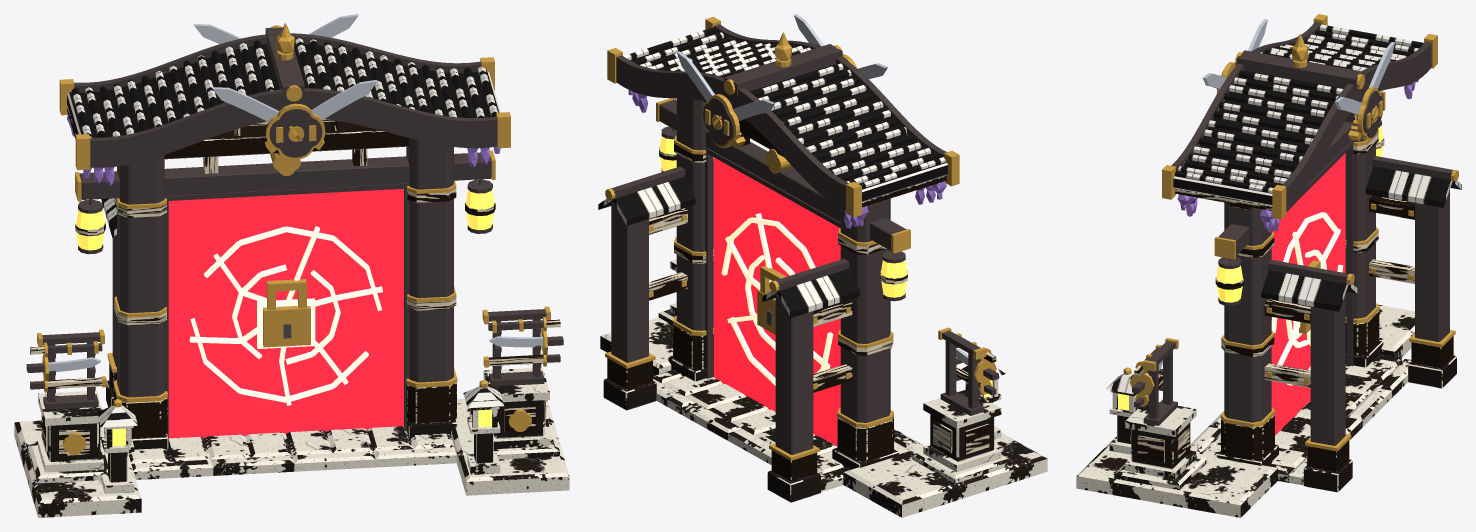
Rendered from ILHA3_08_PURCHASE_GATES_ac1e1a.fbx.
3 views of the same model, side by side, from view 1: azimuth 30°, elevation 25°; view 2: azimuth 150°, elevation 25°; view 3: azimuth 270°, elevation 25° (orthographic). The views are drawn at different scales.
Parts seen in each view (by area): view 1: GATE_DemonSlayer_Frame__P_DS_Black, GATE_DemonSlayer_Barrier__P_DS_Glow, GATE_DemonSlayer_Frame__Roof_Blue, GATE_DemonSlayer_Frame__Stone_Wall_Dark, GATE_DemonSlayer_Frame__Stone_Wall_Light, GATE_DemonSlayer_Frame__Wood_Lacquer_Red, GATE_DemonSlayer_Frame__Metal_Gold, GATE_DemonSlayer_Barrier__Energy_Core_DemonSlayer_Glow, GATE_DemonSlayer_Frame__Metal_GateDS_Blade, GATE_DemonSlayer_Lock__Metal_Gold, GATE_DemonSlayer_Frame__Lantern_Glow, GATE_DemonSlayer_Frame__Stone_Dark (+2 smaller); view 2: GATE_DemonSlayer_Frame__P_DS_Black, GATE_DemonSlayer_Frame__Roof_Blue, GATE_DemonSlayer_Barrier__P_DS_Glow, GATE_DemonSlayer_Frame__Stone_Wall_Dark, GATE_DemonSlayer_Frame__Wood_Lacquer_Red, GATE_DemonSlayer_Frame__Metal_Gold, GATE_DemonSlayer_Frame__Stone_Wall_Light, GATE_DemonSlayer_Barrier__Energy_Core_DemonSlayer_Glow, GATE_DemonSlayer_Frame__Stone_Dark, GATE_DemonSlayer_Frame__Metal_GateDS_Blade, GATE_DemonSlayer_Frame__Lantern_Glow, GATE_DemonSlayer_Frame__Leaf_GateDS_Wisteria (+1 smaller); view 3: GATE_DemonSlayer_Frame__P_DS_Black, GATE_DemonSlayer_Frame__Roof_Blue, GATE_DemonSlayer_Frame__Stone_Wall_Dark, GATE_DemonSlayer_Frame__Wood_Lacquer_Red, GATE_DemonSlayer_Barrier__P_DS_Glow, GATE_DemonSlayer_Frame__Metal_Gold, GATE_DemonSlayer_Frame__Stone_Wall_Light, GATE_DemonSlayer_Frame__Stone_Dark, GATE_DemonSlayer_Barrier__Energy_Core_DemonSlayer_Glow, GATE_DemonSlayer_Frame__Metal_GateDS_Blade, GATE_DemonSlayer_Frame__Lantern_Glow, GATE_DemonSlayer_Frame__Leaf_GateDS_Wisteria (+1 smaller).
Part boxes in pixels (left/top/right/bottom): GATE_DemonSlayer_Frame__P_DS_Black: left=26, top=27, right=563, bottom=441; GATE_DemonSlayer_Barrier__P_DS_Glow: left=168, top=188, right=403, bottom=438; GATE_DemonSlayer_Frame__Roof_Blue: left=67, top=38, right=504, bottom=427; GATE_DemonSlayer_Frame__Stone_Wall_Dark: left=14, top=367, right=569, bottom=517; GATE_DemonSlayer_Frame__Stone_Wall_Light: left=28, top=400, right=559, bottom=483; GATE_DemonSlayer_Frame__Wood_Lacquer_Red: left=30, top=128, right=560, bottom=455; GATE_DemonSlayer_Frame__Metal_Gold: left=37, top=23, right=550, bottom=455; GATE_DemonSlayer_Barrier__Energy_Core_DemonSlayer_Glow: left=189, top=226, right=382, bottom=405; GATE_DemonSlayer_Frame__Metal_GateDS_Blade: left=48, top=14, right=543, bottom=372; GATE_DemonSlayer_Lock__Metal_Gold: left=263, top=279, right=310, bottom=347; GATE_DemonSlayer_Frame__Lantern_Glow: left=76, top=189, right=494, bottom=445; GATE_DemonSlayer_Frame__Stone_Dark: left=106, top=380, right=457, bottom=449; GATE_DemonSlayer_Frame__P_DS_Black: left=611, top=24, right=998, bottom=454; GATE_DemonSlayer_Frame__Roof_Blue: left=598, top=27, right=1005, bottom=375; GATE_DemonSlayer_Barrier__P_DS_Glow: left=713, top=157, right=840, bottom=446; GATE_DemonSlayer_Frame__Stone_Wall_Dark: left=600, top=259, right=1047, bottom=517; GATE_DemonSlayer_Frame__Wood_Lacquer_Red: left=607, top=101, right=996, bottom=482; GATE_DemonSlayer_Frame__Metal_Gold: left=605, top=16, right=996, bottom=460; GATE_DemonSlayer_Frame__Stone_Wall_Light: left=653, top=309, right=1012, bottom=487; GATE_DemonSlayer_Barrier__Energy_Core_DemonSlayer_Glow: left=721, top=213, right=833, bottom=385; GATE_DemonSlayer_Frame__Stone_Dark: left=603, top=355, right=898, bottom=502; GATE_DemonSlayer_Frame__Metal_GateDS_Blade: left=676, top=14, right=979, bottom=365; GATE_DemonSlayer_Frame__Lantern_Glow: left=660, top=136, right=992, bottom=397; GATE_DemonSlayer_Frame__Leaf_GateDS_Wisteria: left=628, top=90, right=946, bottom=228; GATE_DemonSlayer_Frame__P_DS_Black: left=1132, top=21, right=1452, bottom=445; GATE_DemonSlayer_Frame__Roof_Blue: left=1106, top=24, right=1461, bottom=394; GATE_DemonSlayer_Frame__Stone_Wall_Dark: left=1076, top=304, right=1414, bottom=517; GATE_DemonSlayer_Frame__Wood_Lacquer_Red: left=1134, top=133, right=1453, bottom=472; GATE_DemonSlayer_Barrier__P_DS_Glow: left=1271, top=153, right=1345, bottom=435; GATE_DemonSlayer_Frame__Metal_Gold: left=1123, top=14, right=1458, bottom=451; GATE_DemonSlayer_Frame__Stone_Wall_Light: left=1112, top=354, right=1404, bottom=490; GATE_DemonSlayer_Frame__Stone_Dark: left=1217, top=340, right=1456, bottom=492; GATE_DemonSlayer_Barrier__Energy_Core_DemonSlayer_Glow: left=1271, top=212, right=1343, bottom=385; GATE_DemonSlayer_Frame__Metal_GateDS_Blade: left=1146, top=19, right=1394, bottom=374; GATE_DemonSlayer_Frame__Lantern_Glow: left=1118, top=126, right=1383, bottom=410; GATE_DemonSlayer_Frame__Leaf_GateDS_Wisteria: left=1177, top=80, right=1418, bottom=232.
Bounding box in the file's own units: 38.26 × 30.95 × 28.28.
Materials: 12 (4 with a texture image).
